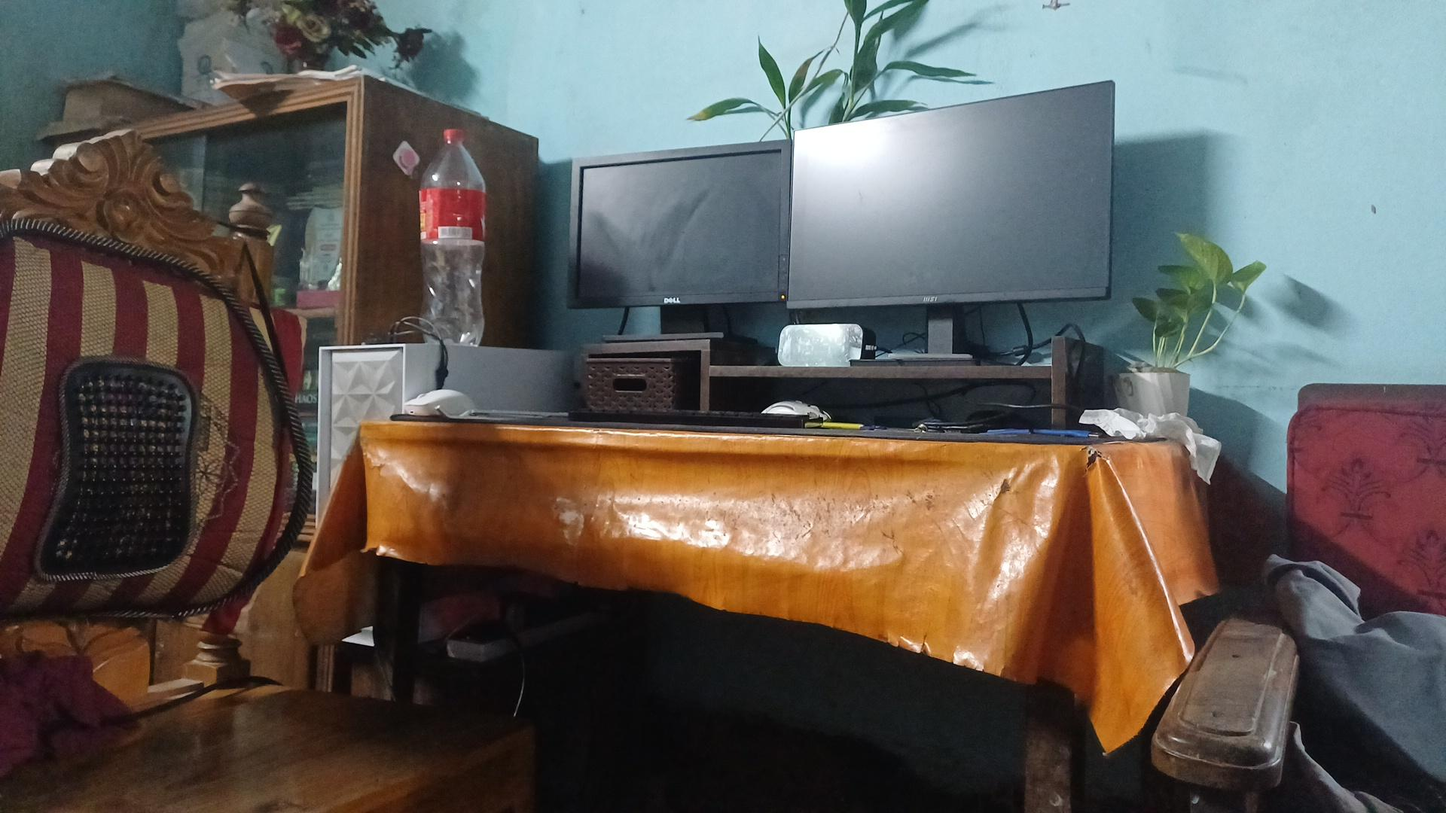Bottle: (414, 126, 503, 339)
Chair: (5, 102, 395, 808)
Clock: (757, 317, 878, 380)
Monitor: (763, 110, 1137, 302), (563, 136, 783, 326)
Mouse: (412, 375, 498, 433)
Plant: (1124, 238, 1269, 436)
